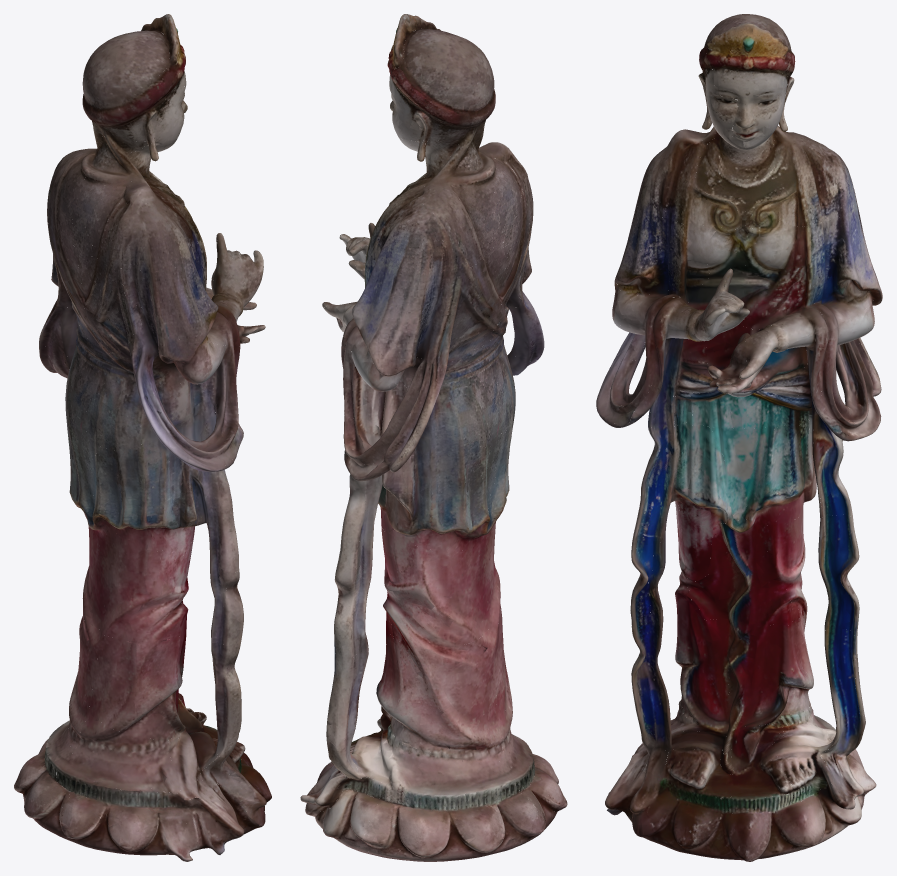
The model's file is f2-attendant-blue.glb.
3 views of the same model, side by side, from view 1: azimuth 30°, elevation 25°; view 2: azimuth 150°, elevation 25°; view 3: azimuth 270°, elevation 25° (orthographic).
Visible parts, largest first — view 1: tripo_node_1fcc6ce3-6a3b-4126-9fba-754e56669bdc; view 2: tripo_node_1fcc6ce3-6a3b-4126-9fba-754e56669bdc; view 3: tripo_node_1fcc6ce3-6a3b-4126-9fba-754e56669bdc.
Boxes of the visible parts, bbox=[...] form: tripo_node_1fcc6ce3-6a3b-4126-9fba-754e56669bdc: bbox=[14, 14, 271, 861]; tripo_node_1fcc6ce3-6a3b-4126-9fba-754e56669bdc: bbox=[300, 14, 567, 861]; tripo_node_1fcc6ce3-6a3b-4126-9fba-754e56669bdc: bbox=[596, 14, 882, 861].
Bounding box in the file's own units: 0.2981 × 1 × 0.3238.
Materials: 1 (1 with a texture image).
